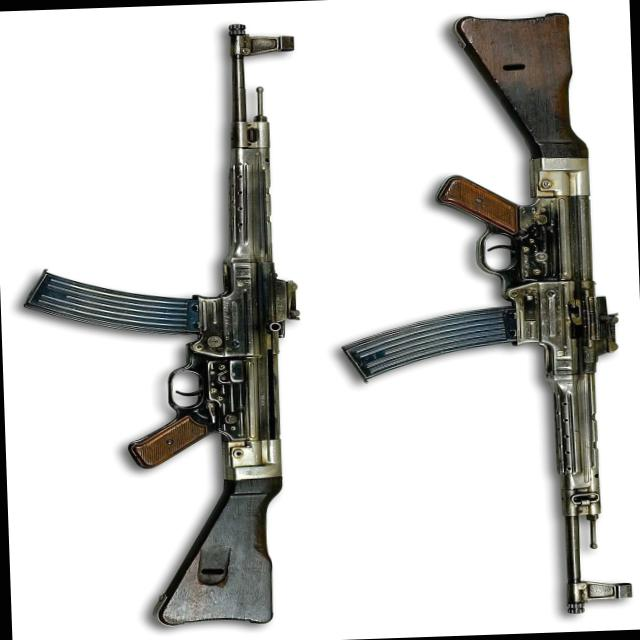long weapon: (18, 5, 330, 635), (374, 0, 639, 613)
